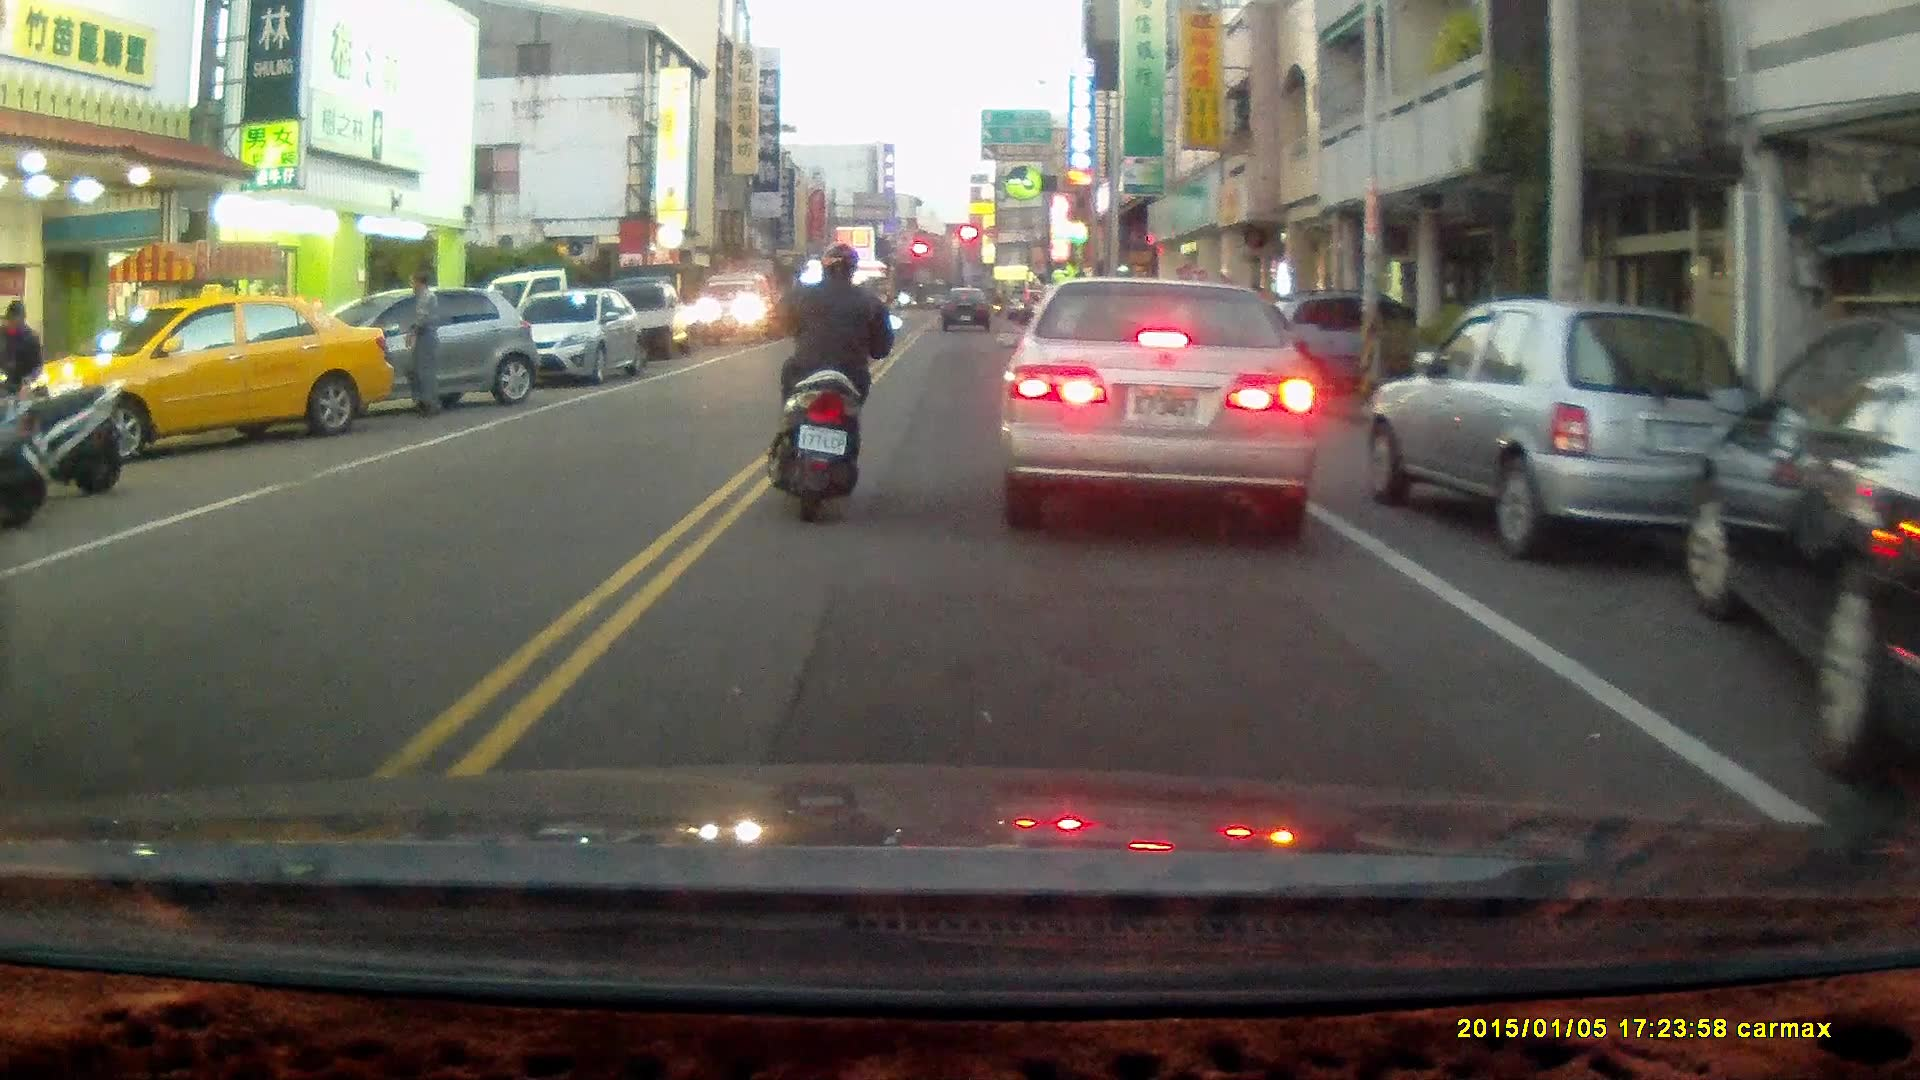pedestrian: (397, 269, 452, 418), (0, 296, 43, 427)
rider: (769, 239, 908, 523)
vehicle: (1681, 311, 1920, 790), (1367, 297, 1762, 558), (995, 272, 1322, 529), (21, 299, 405, 457), (307, 283, 535, 411), (516, 288, 646, 388), (693, 274, 778, 343)
